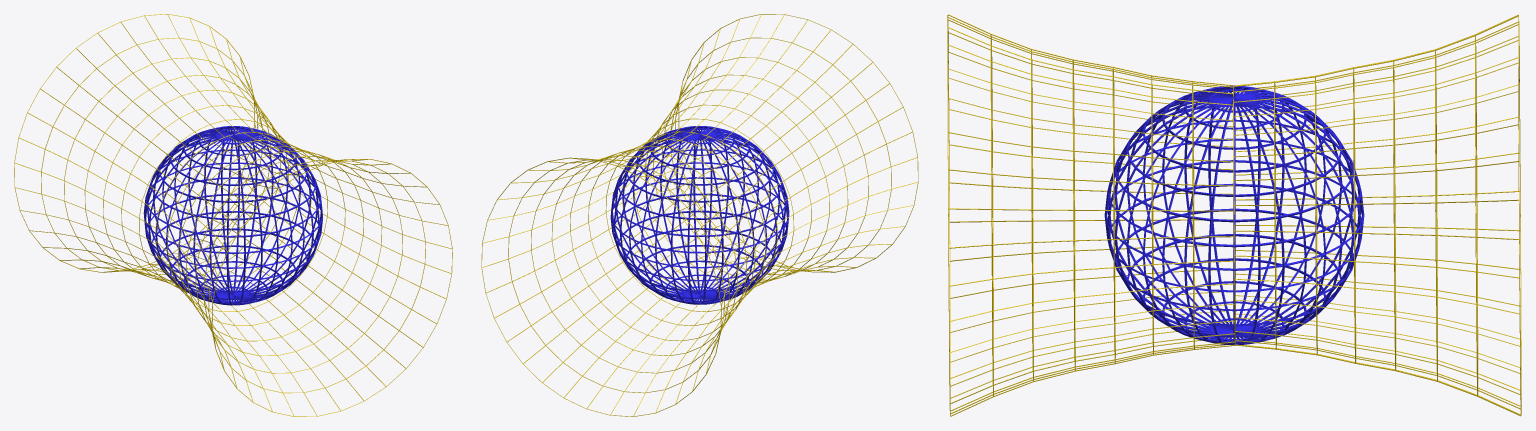
Rendered from asset.glb.
3 views of the same model, side by side, from view 1: azimuth 30°, elevation 25°; view 2: azimuth 150°, elevation 25°; view 3: azimuth 270°, elevation 25° (orthographic). The views are drawn at different scales.
Parts seen in each view (by area): view 1: Sphere, Circle.001, Circle; view 2: Sphere, Circle, Circle.001; view 3: Sphere, Circle.001, Circle.
Part boxes in pixels (x1,y1,x2,y2): Sphere: (143, 126, 322, 305); Circle.001: (155, 132, 452, 416); Circle: (14, 14, 311, 294); Sphere: (610, 125, 789, 304); Circle: (481, 131, 777, 416); Circle.001: (622, 14, 918, 291); Sphere: (1104, 85, 1364, 344); Circle.001: (947, 14, 1235, 416); Circle: (1233, 14, 1521, 416).
Bounding box in the file's own units: 3.1 × 3.1 × 4.42.
